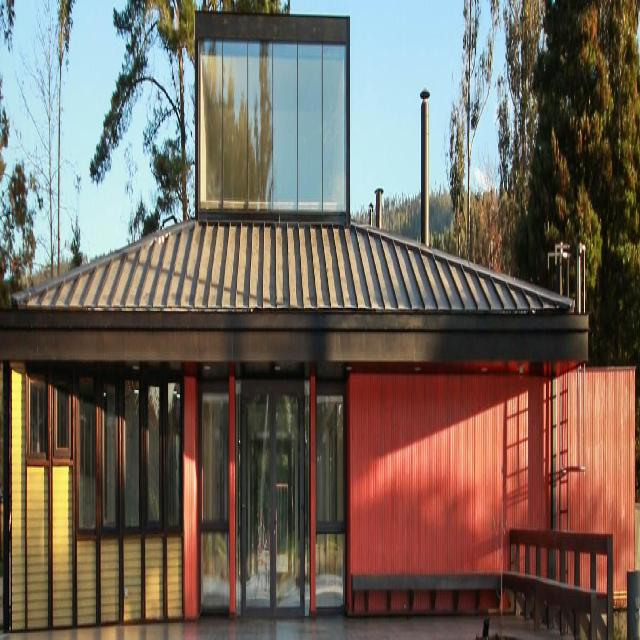door: (242, 372, 304, 609)
plant: (495, 0, 640, 356), (90, 0, 196, 236), (450, 0, 500, 231), (0, 156, 43, 297)
wall: (2, 1, 634, 606)
windows: (198, 30, 346, 207), (25, 365, 182, 520)
